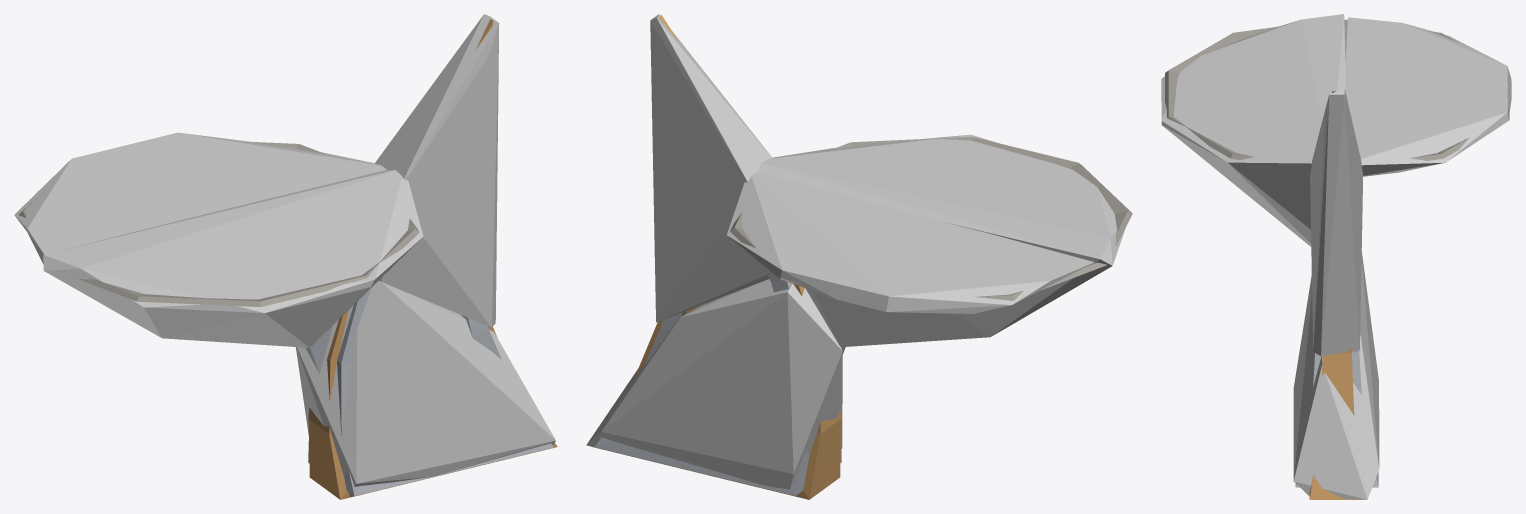
The model's file is SM_Prop_Bird_Bath_01.fbx.
The picture shows the model from 3 angles, left to right: view 1: azimuth 30°, elevation 25°; view 2: azimuth 150°, elevation 25°; view 3: azimuth 270°, elevation 25°; orthographic projection. The views are drawn at different scales.
Visible parts, largest first — view 1: SM_Prop_Bird_Bath_01_ConvexHulls, SM_Prop_Bird_Bath_01; view 2: SM_Prop_Bird_Bath_01_ConvexHulls, SM_Prop_Bird_Bath_01; view 3: SM_Prop_Bird_Bath_01_ConvexHulls, SM_Prop_Bird_Bath_01.
Boxes of the visible parts, box(x1,y1,x2,y2) form: SM_Prop_Bird_Bath_01_ConvexHulls: box(14, 14, 555, 496); SM_Prop_Bird_Bath_01: box(19, 19, 557, 499); SM_Prop_Bird_Bath_01_ConvexHulls: box(586, 14, 1124, 489); SM_Prop_Bird_Bath_01: box(594, 14, 1132, 499); SM_Prop_Bird_Bath_01_ConvexHulls: box(1161, 14, 1511, 499); SM_Prop_Bird_Bath_01: box(1165, 19, 1509, 499).
Bounding box in the file's own units: 171 × 114 × 139.
2 materials, 1 textured.
